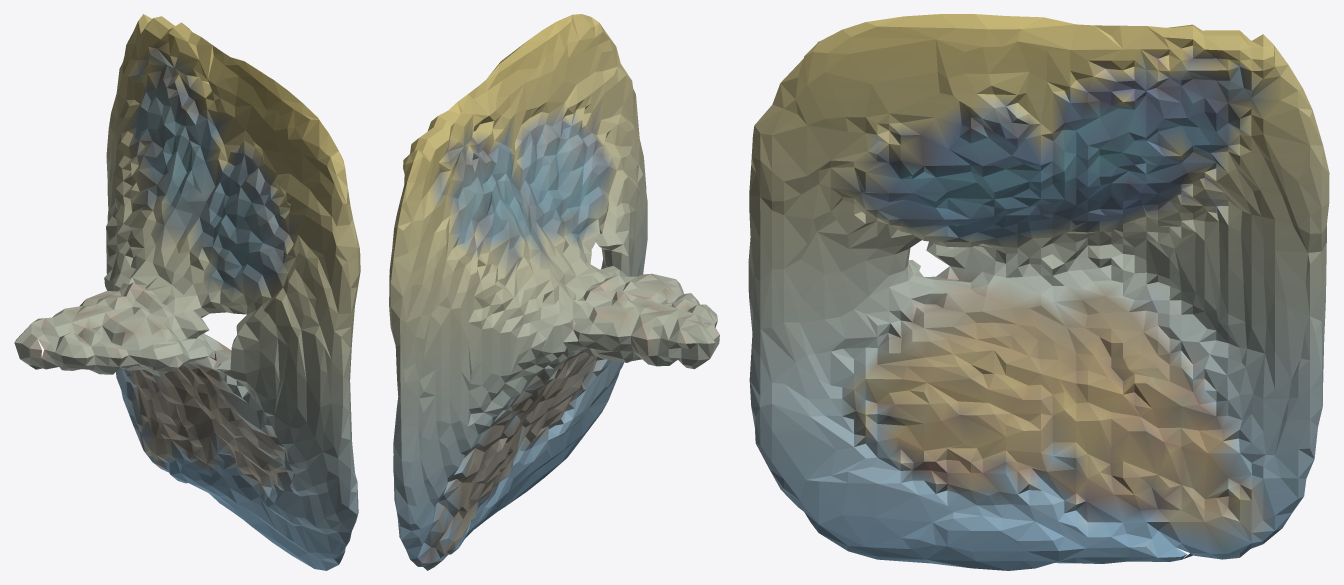
File: butterfly.glb
The picture shows the model from 3 angles, left to right: view 1: azimuth 30°, elevation 25°; view 2: azimuth 150°, elevation 25°; view 3: azimuth 270°, elevation 25°; orthographic projection. The views are drawn at different scales.
Visible parts, largest first — view 1: world; view 2: world; view 3: world.
Boxes of the visible parts, x1,y1,x2,y2 form: world: (14, 14, 360, 570); world: (389, 14, 719, 570); world: (748, 14, 1329, 570).
Bounding box in the file's own units: 0.1752 × 0.32 × 0.3053.
